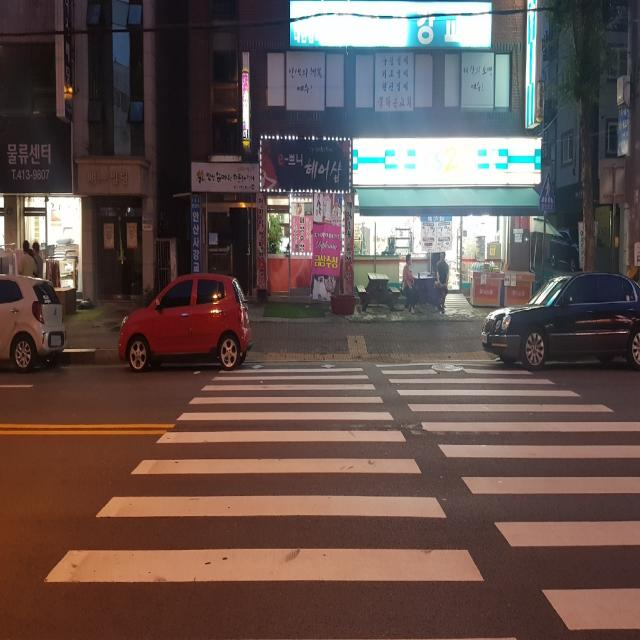횡단보도: (39, 355, 640, 640)
